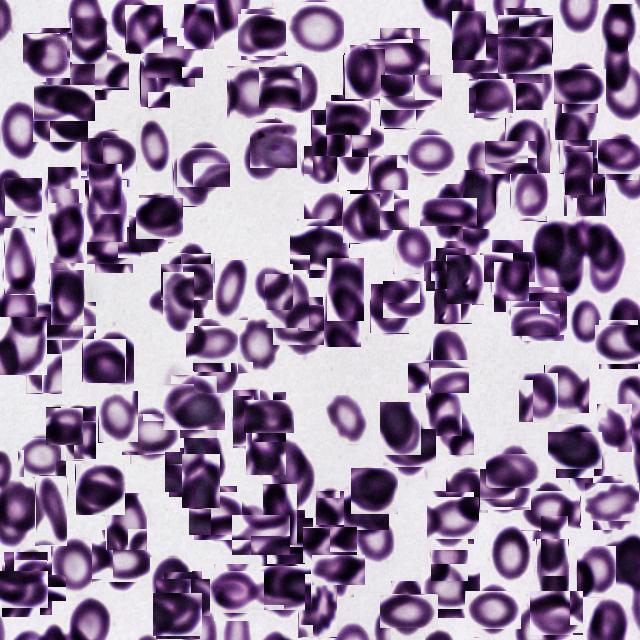red blood cell: (287, 1, 343, 57), (167, 379, 221, 434), (583, 224, 626, 292), (254, 562, 307, 615), (324, 272, 361, 347), (0, 317, 47, 375), (96, 535, 148, 587), (424, 562, 476, 614), (294, 222, 346, 274), (353, 184, 404, 236), (226, 66, 275, 120), (563, 156, 606, 217), (51, 537, 97, 594), (304, 191, 350, 248), (85, 180, 127, 242), (374, 34, 426, 84), (490, 524, 532, 585), (272, 450, 316, 508), (505, 118, 550, 174), (126, 410, 176, 460), (526, 486, 576, 536), (278, 300, 328, 350), (24, 30, 74, 80), (74, 45, 124, 95), (149, 32, 199, 82), (76, 464, 126, 514), (210, 568, 260, 618), (0, 100, 39, 163), (84, 134, 134, 183), (500, 11, 550, 60), (191, 488, 240, 538), (40, 78, 89, 128), (237, 510, 286, 560), (106, 493, 148, 551), (216, 498, 258, 556), (265, 274, 309, 329), (232, 390, 273, 449), (237, 317, 280, 373), (532, 589, 581, 638), (388, 68, 437, 117), (555, 83, 597, 140), (150, 556, 192, 612), (272, 62, 318, 113), (352, 510, 397, 562), (327, 258, 364, 321), (344, 45, 386, 100), (519, 290, 567, 338), (470, 586, 518, 634), (43, 296, 91, 344), (328, 118, 376, 166), (457, 170, 496, 229), (246, 418, 286, 475), (379, 402, 421, 456), (35, 476, 67, 546), (212, 259, 248, 321), (429, 494, 476, 541), (351, 468, 398, 515), (416, 352, 462, 400), (544, 365, 589, 414), (589, 480, 636, 526), (240, 11, 286, 58), (482, 466, 529, 512), (38, 100, 84, 147), (180, 144, 227, 190), (48, 203, 84, 263), (465, 142, 506, 194), (368, 155, 408, 208), (94, 333, 134, 386), (408, 131, 454, 177), (91, 223, 137, 269), (456, 31, 502, 77), (263, 514, 309, 560), (386, 588, 432, 634), (552, 428, 598, 474), (160, 575, 206, 621), (155, 592, 201, 638), (502, 33, 548, 79), (306, 522, 352, 568), (510, 296, 556, 342), (156, 279, 202, 325), (326, 395, 369, 444), (430, 527, 468, 582), (26, 336, 62, 394), (98, 391, 138, 443), (4, 228, 35, 295), (536, 539, 570, 600), (263, 484, 297, 545), (140, 39, 170, 108), (387, 426, 432, 472), (491, 448, 536, 494), (298, 585, 337, 638), (182, 454, 220, 508), (167, 450, 212, 495), (190, 322, 234, 368), (184, 438, 228, 484), (0, 567, 44, 613), (516, 54, 552, 110), (136, 117, 172, 173), (434, 271, 472, 324), (518, 372, 558, 422), (370, 284, 410, 334), (577, 546, 616, 597), (315, 490, 347, 552), (60, 406, 96, 461), (510, 169, 547, 222), (267, 438, 306, 488), (20, 436, 64, 480), (558, 65, 602, 109), (166, 260, 210, 304), (596, 323, 640, 367), (432, 332, 469, 384), (50, 270, 84, 326), (342, 194, 380, 244), (446, 255, 484, 305), (5, 552, 48, 596), (82, 339, 126, 382), (138, 197, 182, 240), (47, 167, 79, 226), (252, 264, 293, 310), (559, 125, 597, 174), (125, 5, 163, 54), (486, 246, 529, 289), (489, 136, 532, 179), (427, 191, 470, 234), (128, 207, 168, 253), (436, 407, 474, 455), (430, 254, 472, 297), (346, 488, 388, 531), (426, 386, 462, 436), (394, 227, 432, 274), (173, 156, 208, 207), (600, 4, 637, 52), (446, 470, 488, 512), (260, 66, 302, 108), (248, 396, 290, 438), (318, 550, 360, 592), (494, 262, 529, 312), (384, 279, 426, 320), (71, 18, 107, 65), (194, 352, 236, 392), (597, 404, 632, 452), (567, 296, 601, 345), (452, 11, 486, 60), (89, 164, 122, 214), (600, 137, 640, 178), (541, 516, 568, 576), (471, 76, 511, 116), (19, 568, 59, 608), (328, 98, 368, 138), (312, 110, 346, 157), (604, 30, 628, 94), (173, 248, 211, 286), (46, 407, 84, 445), (5, 178, 42, 216), (184, 2, 214, 48), (380, 91, 416, 129), (302, 146, 338, 182), (565, 152, 593, 195)
ring: (250, 122, 296, 168)
